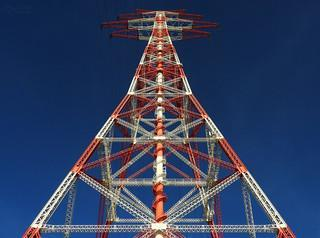power_tower: (27, 7, 293, 238)
